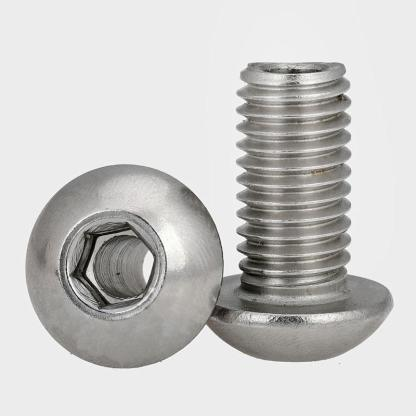FOD: (197, 59, 396, 364), (22, 163, 227, 368)
